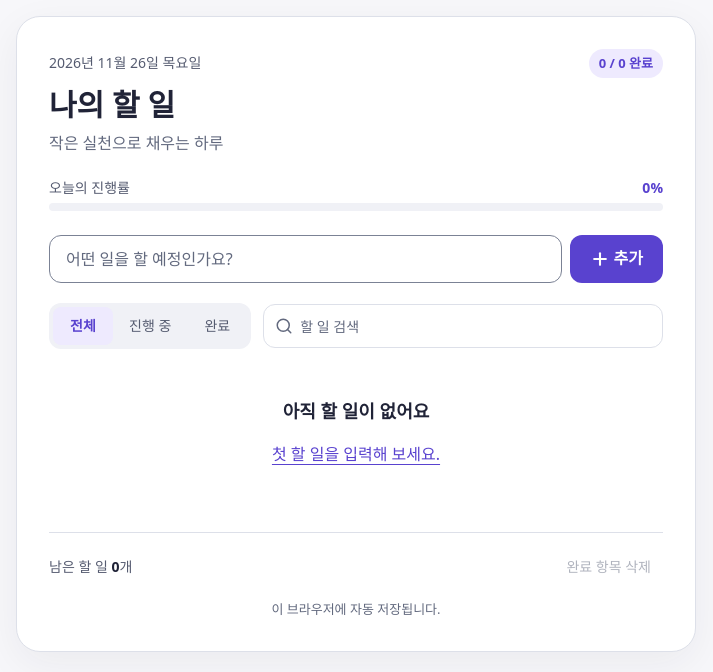
TodoApp 통합 컴포넌트 테스트 › 개별 삭제 후 실행 취소 알림이 뜨고, 실행 취소 클릭 시 원래 위치로 복원된다
In the field with placeholder "어떤 일을 할 예정인가요?": (305, 259) [49,235,562,283], type "첫 번째"
Then press Enter
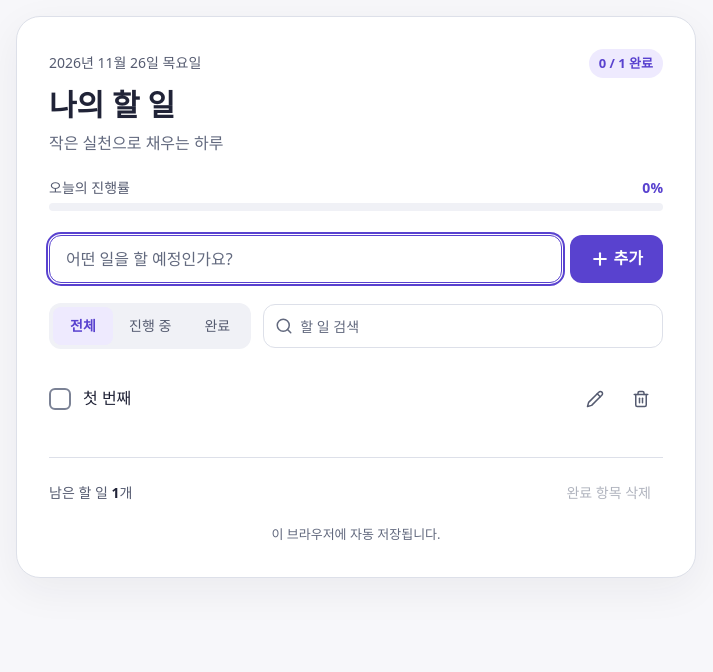
In the field with placeholder "어떤 일을 할 예정인가요?": (305, 259) [49,235,562,283], type "두 번째"
Then press Enter
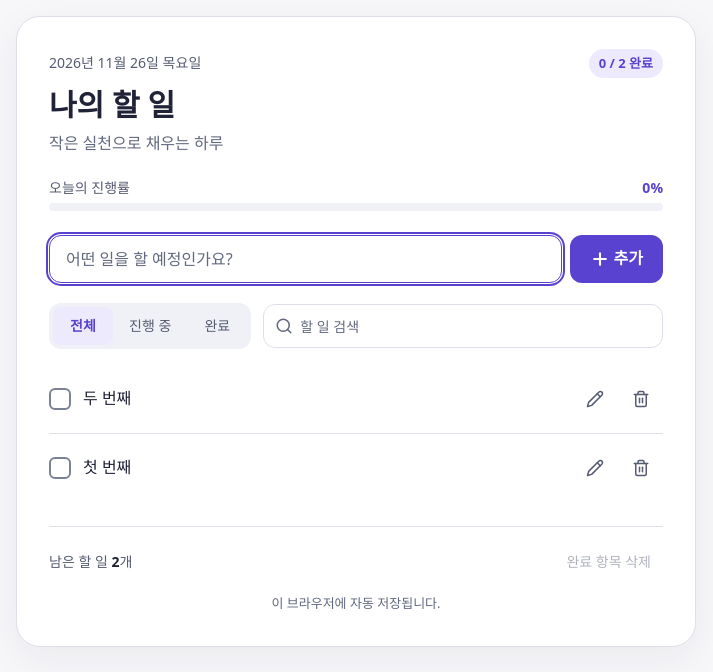
Result: the text "첫 번째" is shown at [83,456,131,478]
Result: the text "두 번째" is shown at [83,388,131,410]
 두 번째 삭제
Click the button named "\"두 번째\" 삭제": (641, 399) [619,377,663,421]
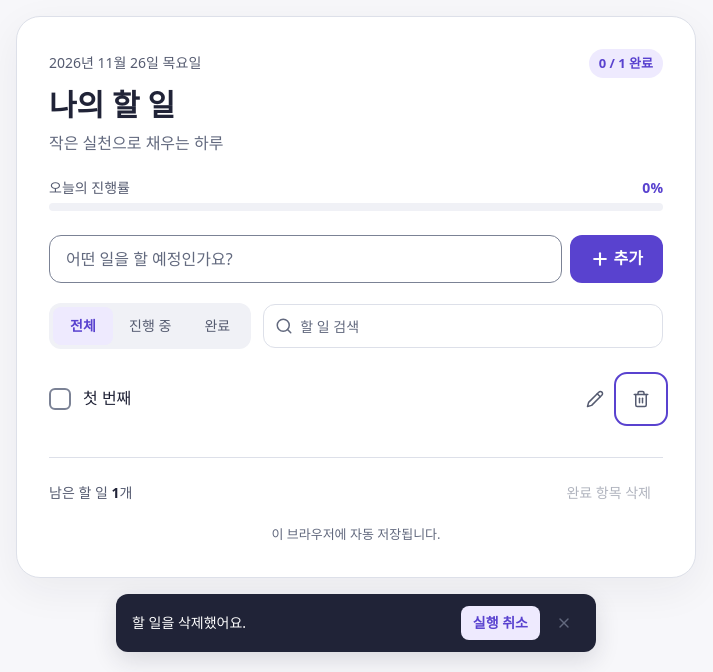
Result: the text "할 일을 삭제했어요." is shown at [132,612,246,634]
Result: the text "두 번째" is gone
실행 취소 클릭
Click the button with aria-label "삭제한 할 일 실행 취소": (500, 623) [461,606,540,640]
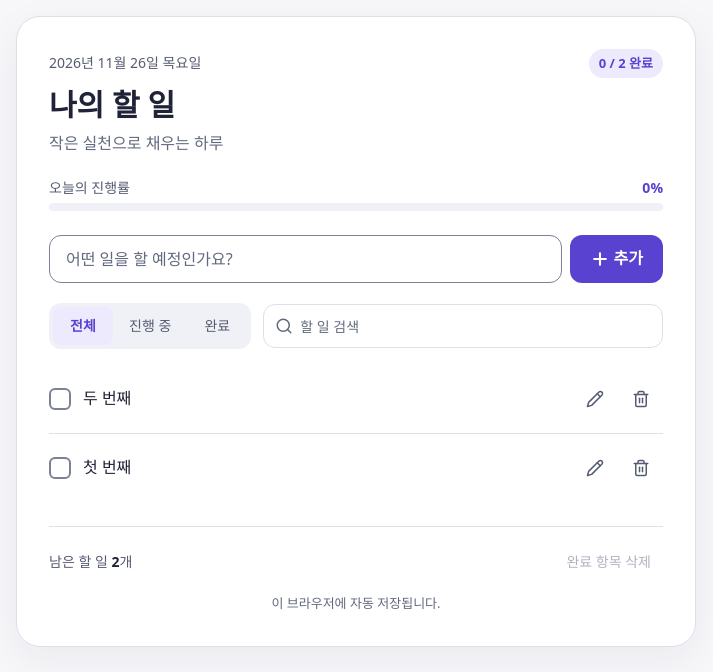
Result: the text "두 번째" is shown at [83,388,131,410]
